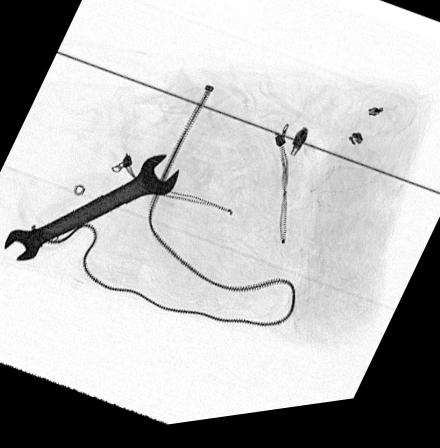Wrench: (3, 159, 180, 261)
